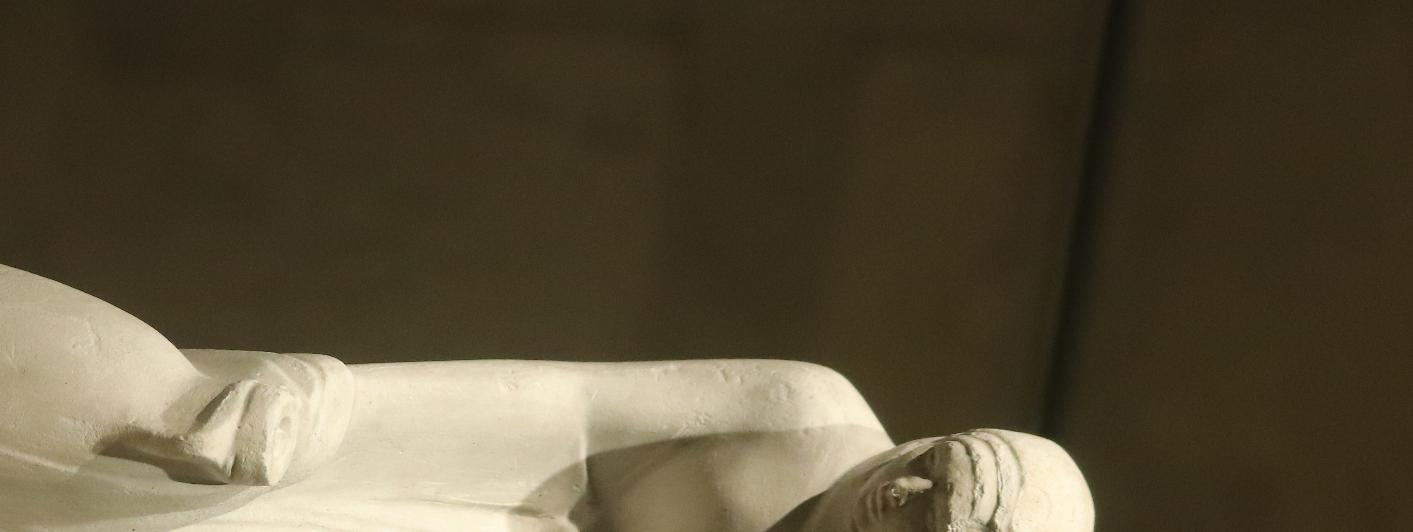the_female_peasent: (0, 235, 546, 532)
